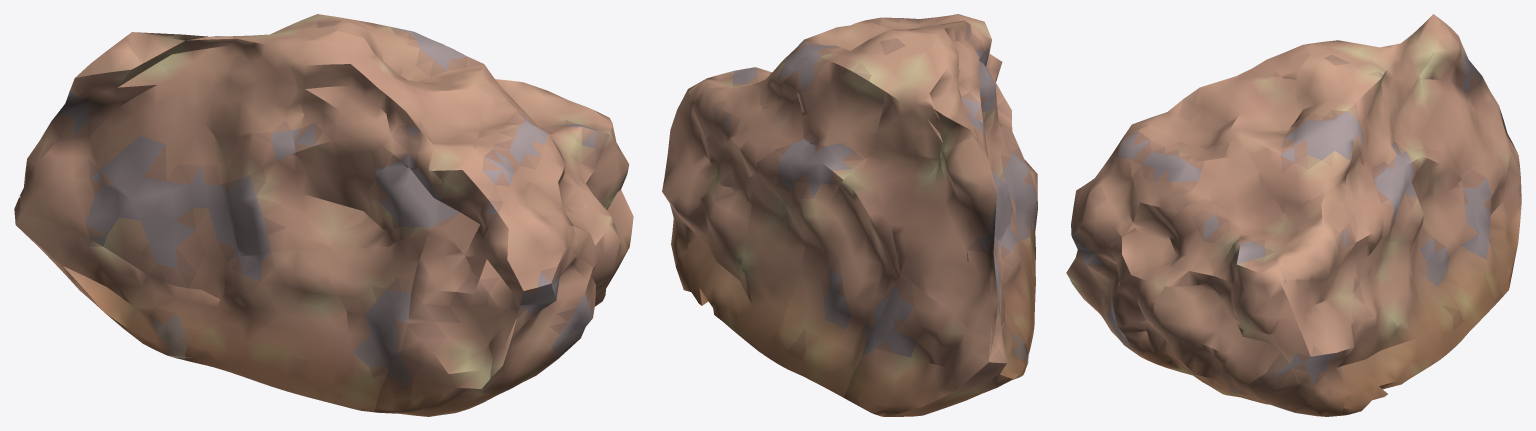
The model's file is iron_rock_v4.glb.
3 renders of one model, left to right at view 1: azimuth 30°, elevation 25°; view 2: azimuth 150°, elevation 25°; view 3: azimuth 270°, elevation 25°, orthographic. The views are drawn at different scales.
Parts seen in each view (by area): view 1: Chunk_09, Chunk_04, Chunk_25, Chunk_07, Chunk_15, Chunk_22, Chunk_01, Chunk_17, Chunk_12, Chunk_28, Chunk_02, Chunk_20 (+8 smaller); view 2: Chunk_06, Chunk_09, Chunk_01, Chunk_27, Chunk_22, Chunk_11, Chunk_03, Chunk_08, Chunk_19, Chunk_14, Chunk_21, Chunk_24 (+12 smaller); view 3: Chunk_06, Chunk_08, Chunk_09, Chunk_29, Chunk_27, Chunk_28, Chunk_23, Chunk_01, Chunk_05, Chunk_03, Chunk_21, Chunk_13 (+13 smaller).
Part boxes in pixels (left/top/right/bottom): Chunk_09: left=19, top=38, right=238, bottom=298; Chunk_04: left=184, top=247, right=365, bottom=411; Chunk_25: left=291, top=31, right=393, bottom=231; Chunk_07: left=374, top=223, right=501, bottom=416; Chunk_15: left=439, top=155, right=577, bottom=310; Chunk_22: left=124, top=26, right=333, bottom=166; Chunk_01: left=14, top=197, right=219, bottom=360; Chunk_17: left=228, top=130, right=336, bottom=256; Chunk_12: left=328, top=236, right=426, bottom=412; Chunk_28: left=372, top=49, right=485, bottom=182; Chunk_02: left=461, top=256, right=594, bottom=411; Chunk_20: left=330, top=154, right=443, bottom=248; Chunk_06: left=768, top=173, right=899, bottom=397; Chunk_09: left=891, top=138, right=1005, bottom=349; Chunk_01: left=844, top=272, right=1028, bottom=416; Chunk_27: left=793, top=29, right=910, bottom=168; Chunk_22: left=873, top=34, right=978, bottom=159; Chunk_11: left=737, top=174, right=805, bottom=357; Chunk_03: left=676, top=185, right=751, bottom=333; Chunk_08: left=662, top=94, right=718, bottom=266; Chunk_19: left=757, top=139, right=852, bottom=237; Chunk_14: left=851, top=149, right=944, bottom=224; Chunk_21: left=689, top=80, right=760, bottom=149; Chunk_24: left=738, top=73, right=803, bottom=177; Chunk_06: left=1410, top=149, right=1495, bottom=354; Chunk_08: left=1276, top=279, right=1354, bottom=416; Chunk_09: left=1419, top=17, right=1512, bottom=174; Chunk_29: left=1237, top=113, right=1353, bottom=217; Chunk_27: left=1295, top=54, right=1405, bottom=179; Chunk_28: left=1138, top=76, right=1296, bottom=149; Chunk_23: left=1131, top=126, right=1229, bottom=240; Chunk_01: left=1458, top=143, right=1521, bottom=303; Chunk_05: left=1153, top=284, right=1239, bottom=384; Chunk_03: left=1332, top=269, right=1421, bottom=416; Chunk_21: left=1269, top=194, right=1359, bottom=280; Chunk_13: left=1208, top=235, right=1286, bottom=334.
Size of the model in its own units: 3.36 by 2.07 by 3.14.
